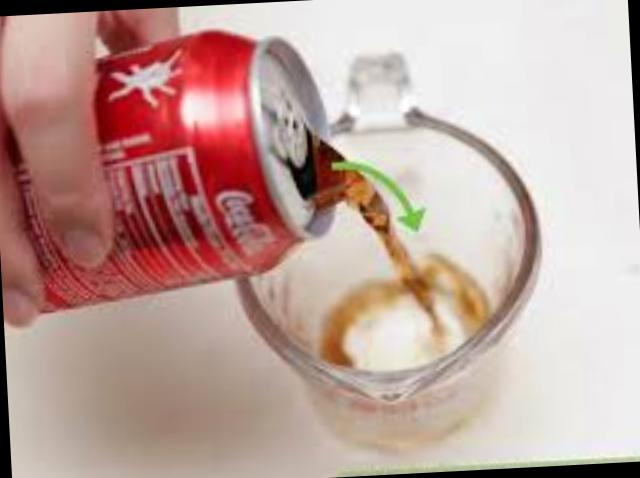metal: (14, 29, 343, 311)
